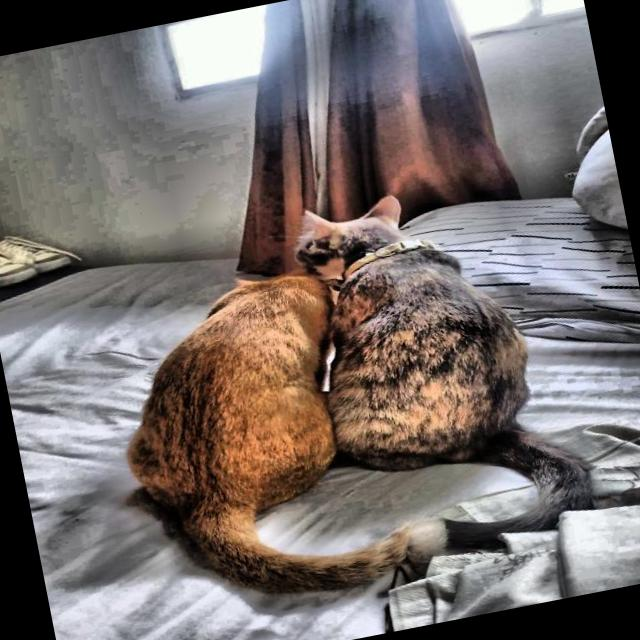Healthy skin: (172, 350, 290, 492), (358, 302, 473, 430)
